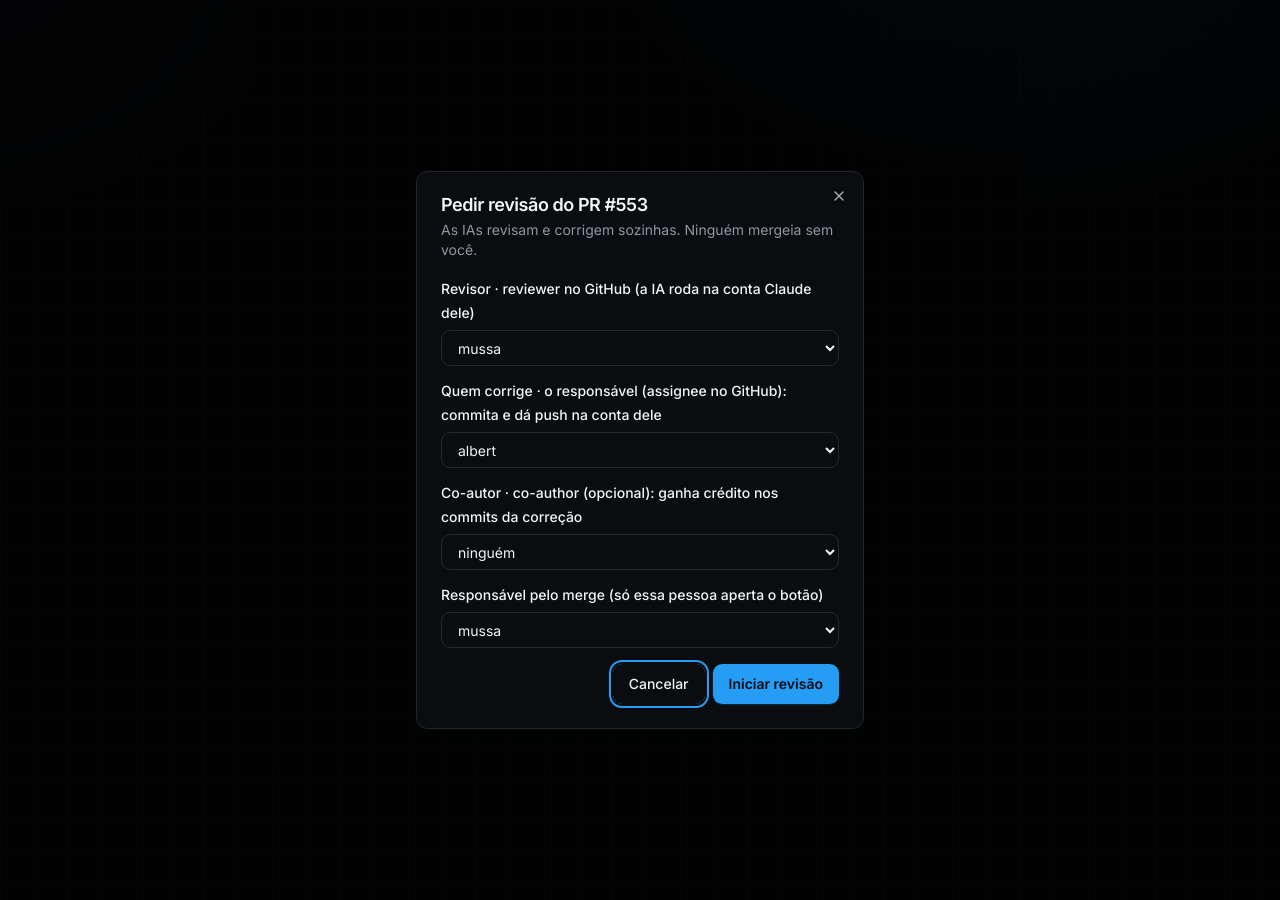
Test: RequestReviewDialog › server refusal revisor_sem_github: o revisor não tem uma conexão GitHub própria no vibehub (os reviews do PR sairiam na conta de outra pessoa) shows inline and
This screenshot has width=1280, height=900.
Expected: the dropdown labelled "Revisor" is shown, [441, 330, 839, 366]
Click the button "Iniciar revisão" at (776, 684), box [712, 664, 839, 704]
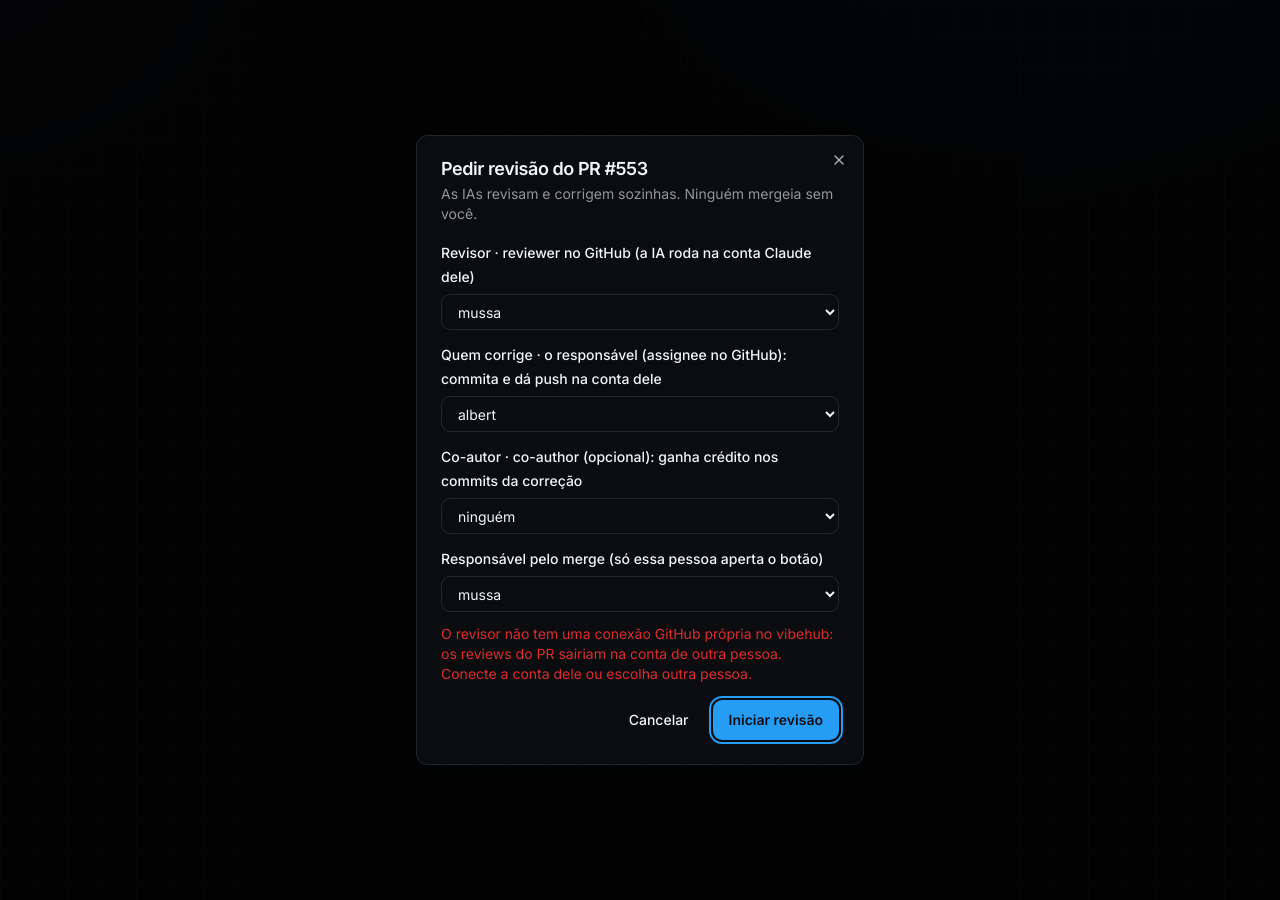
Expected: the button "Iniciar revisão" is enabled, [712, 700, 839, 740]
Result: the message shows "O revisor não tem uma conexão GitHub própria no vibehub" at [441, 625, 833, 682]
